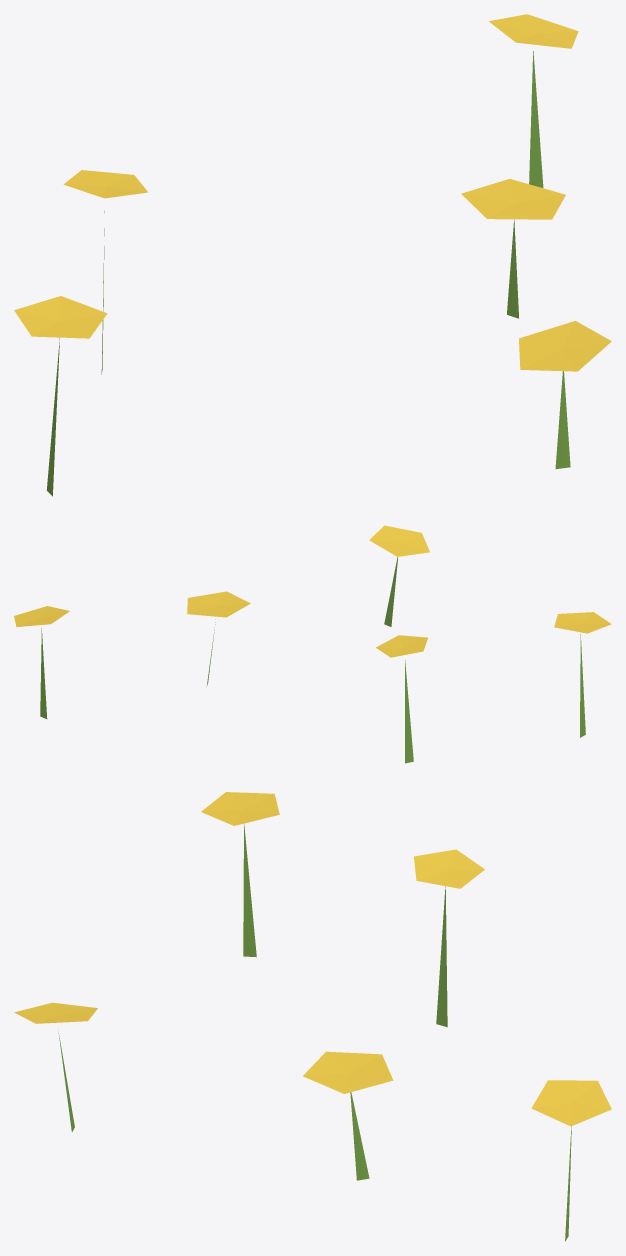
The model's file is buttercups.far.glb.
The picture shows the model from 3 angles, top to bottom: view 1: azimuth 30°, elevation 25°; view 2: azimuth 150°, elevation 25°; view 3: azimuth 270°, elevation 25°; orthographic projection. The views are drawn at different scales.
Visible parts, largest first — view 1: buttercups; view 2: buttercups; view 3: buttercups.
Part boxes in pixels (x1=…): buttercups: x1=14, y1=14, x2=611, y2=496; buttercups: x1=14, y1=525, x2=611, y2=763; buttercups: x1=14, y1=792, x2=611, y2=1241.
Bounding box in the file's own units: 0.5459 × 0.1322 × 0.4384.
